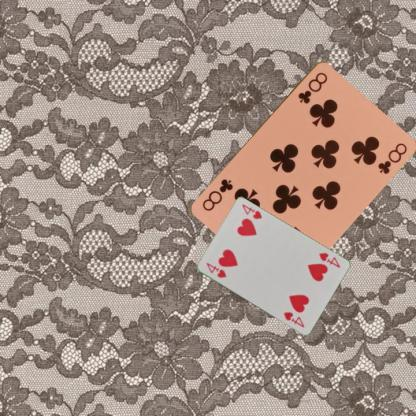4h: (203, 260, 228, 279), (316, 250, 341, 269)
8c: (294, 69, 328, 105)
